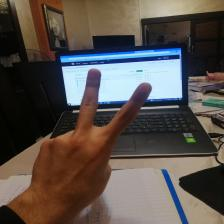two: (34, 66, 155, 198)
